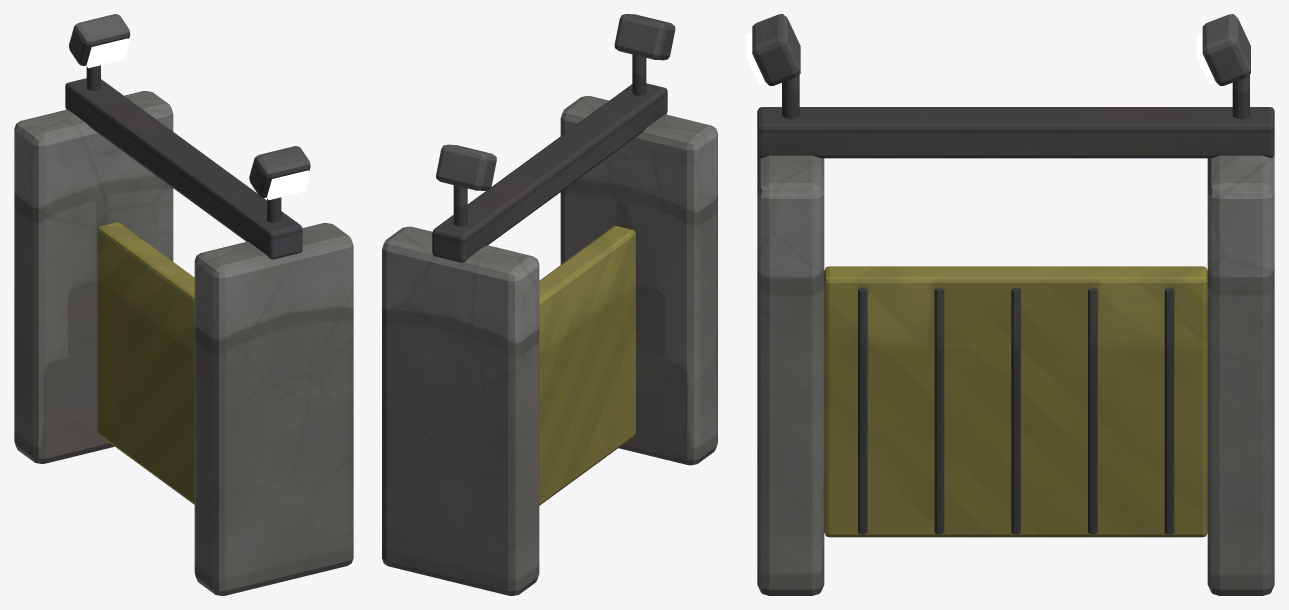
File: base-gate.glb
3 renders of one model, left to right at view 1: azimuth 30°, elevation 25°; view 2: azimuth 150°, elevation 25°; view 3: azimuth 270°, elevation 25°, orthographic. The views are drawn at different scales.
Visible parts, largest first — view 1: base_gate, base_gate_lights; view 2: base_gate; view 3: base_gate, base_gate_lights.
Boxes of the visible parts, x1,y1,x2,y2 form: base_gate: [14, 14, 353, 595]; base_gate_lights: [86, 38, 309, 200]; base_gate: [382, 14, 717, 595]; base_gate: [752, 14, 1274, 595]; base_gate_lights: [746, 33, 1213, 84].
Bounding box in the file's own units: 0.42 × 1.23 × 1.1.
2 materials, 1 textured.
